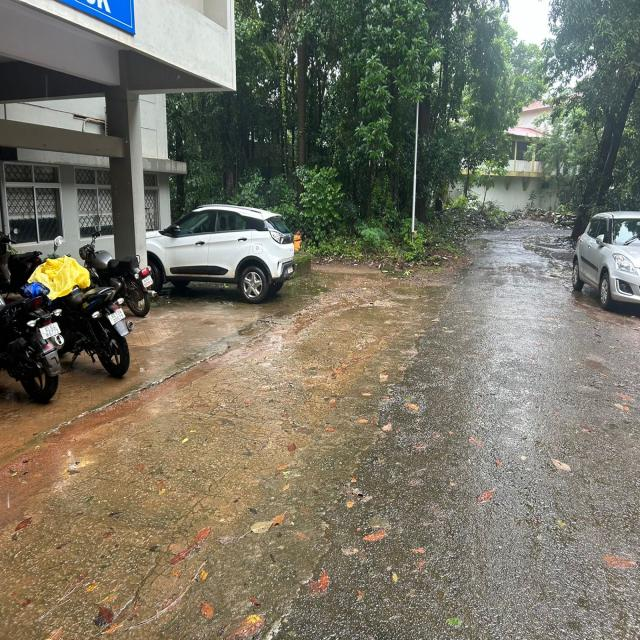car ahead at: (150, 196, 295, 309)
motorcycle ahead at: (1, 281, 64, 401), (64, 281, 142, 375)
